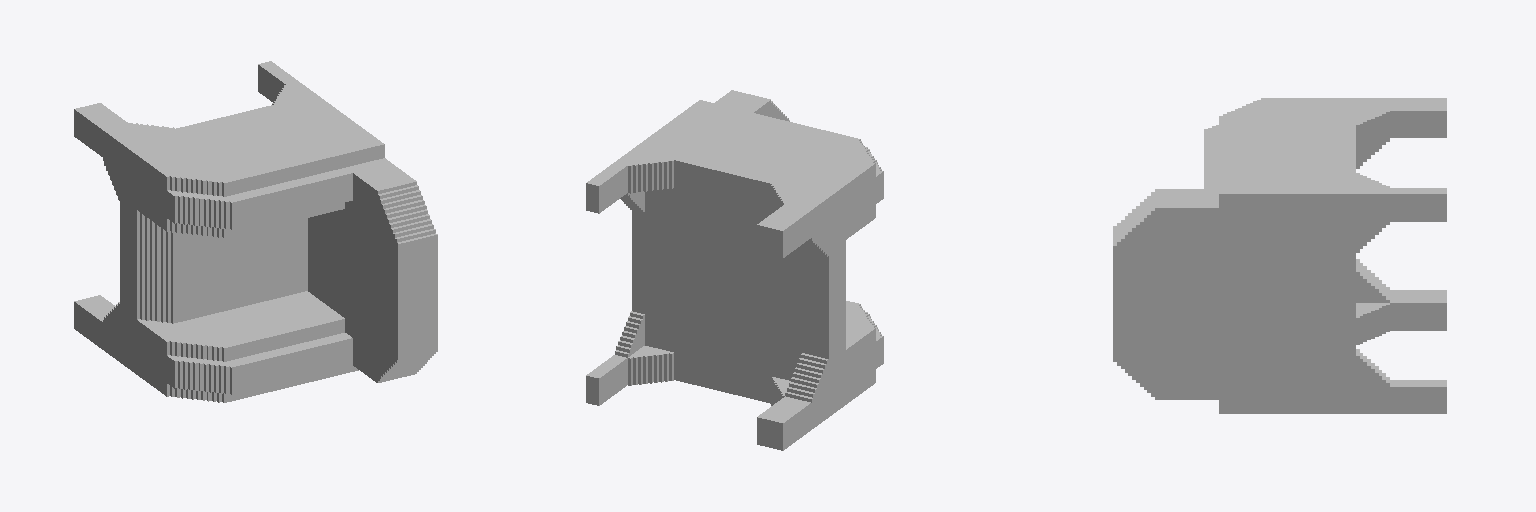
File: coffee_table.obj
The picture shows the model from 3 angles: view 1: azimuth 30°, elevation 25°; view 2: azimuth 150°, elevation 25°; view 3: azimuth 270°, elevation 25°; orthographic projection.
Bounding box in the file's own units: 240 × 256 × 352.